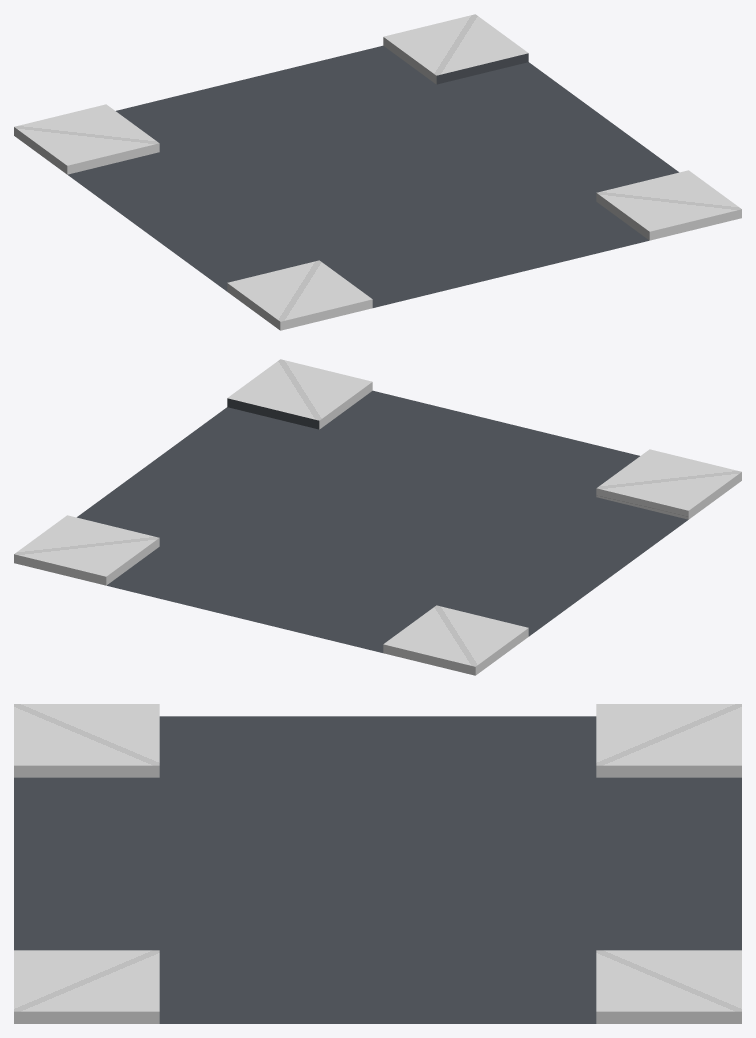
File: road5.fbx
3 views of the same model, one above another, from view 1: azimuth 30°, elevation 25°; view 2: azimuth 150°, elevation 25°; view 3: azimuth 270°, elevation 25° (orthographic). The views are drawn at different scales.
Visible parts, largest first — view 1: road5; view 2: road5; view 3: road5.
Part boxes in pixels (box(x1,y1,x2,y2)): road5: box(14, 14, 741, 330); road5: box(14, 359, 741, 675); road5: box(14, 704, 741, 1023).
Size of the model in its own units: 1000 by 18.48 by 1000.
